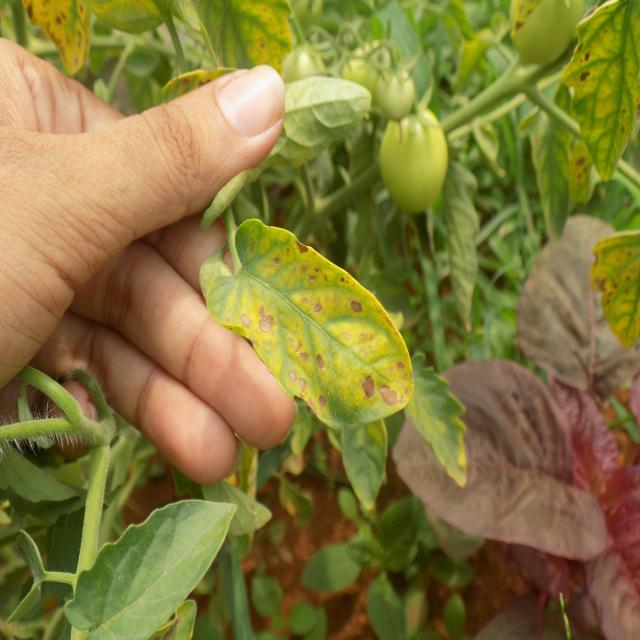tomato_early blight: (199, 217, 418, 434)
tomato_healthy: (67, 495, 235, 640)
